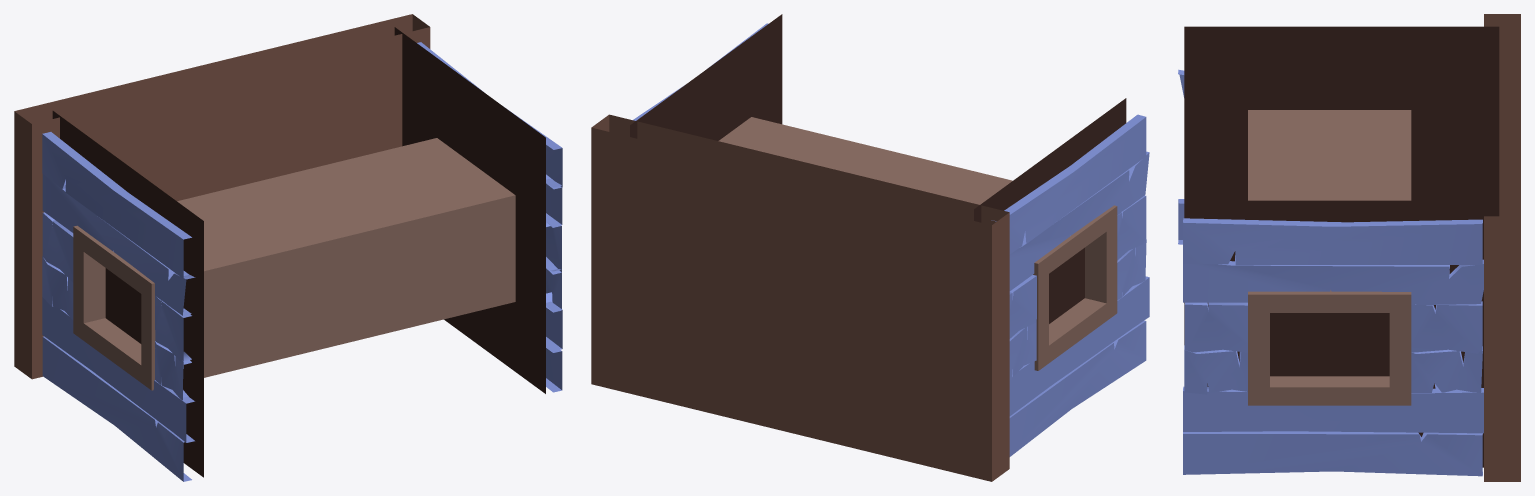
Rendered from Building_Window_003.glb.
3 views of the same model, side by side, from view 1: azimuth 30°, elevation 25°; view 2: azimuth 150°, elevation 25°; view 3: azimuth 270°, elevation 25° (orthographic). The views are drawn at different scales.
Visible parts, largest first — view 1: Building_Window_003; view 2: Building_Window_003; view 3: Building_Window_003.
Part boxes in pixels (box(x1,y1,x2,y2)): Building_Window_003: box(14, 14, 562, 481); Building_Window_003: box(591, 14, 1149, 481); Building_Window_003: box(1178, 14, 1520, 481).
Bounding box in the file's own units: 7.12 × 4.39 × 5.1.
Materials: 1 (1 with a texture image).
